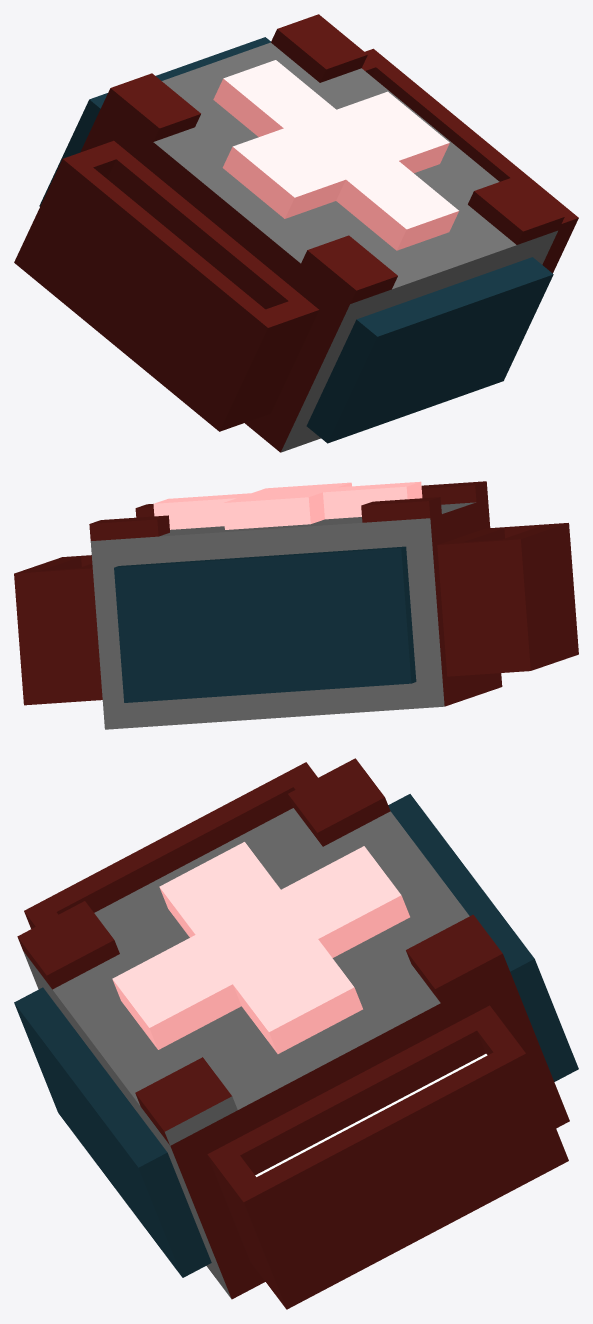
Rendered from HealthPack.gltf.
3 renders of one model, top to bottom at view 1: azimuth 30°, elevation 25°; view 2: azimuth 150°, elevation 25°; view 3: azimuth 270°, elevation 25°, orthographic. The views are drawn at different scales.
Parts seen in each view (by area): view 1: Cube, Cube.002, Cube.001, Cube.004, Cube.003; view 2: Cube.004, Cube, Cube.002, Cube.001, Cube.003; view 3: Cube, Cube.002, Cube.001, Cube.004, Cube.003, Cube.005.
Boxes of the visible parts, <box> form: Cube: <box>14,48,578,452</box>; Cube.002: <box>153,42,557,452</box>; Cube.001: <box>213,60,458,250</box>; Cube.004: <box>39,37,553,443</box>; Cube.003: <box>104,14,564,303</box>; Cube.004: <box>114,546,416,702</box>; Cube: <box>14,498,578,706</box>; Cube.002: <box>90,502,475,729</box>; Cube.001: <box>153,481,422,529</box>; Cube.003: <box>89,481,487,540</box>; Cube: <box>24,762,569,1309</box>; Cube.002: <box>23,808,469,1298</box>; Cube.001: <box>112,842,409,1053</box>; Cube.004: <box>14,794,578,1277</box>; Cube.003: <box>17,758,508,1144</box>; Cube.005: <box>255,1054,487,1176</box>.
Size of the model in its own units: 3.45 by 2.1 by 2.93.
